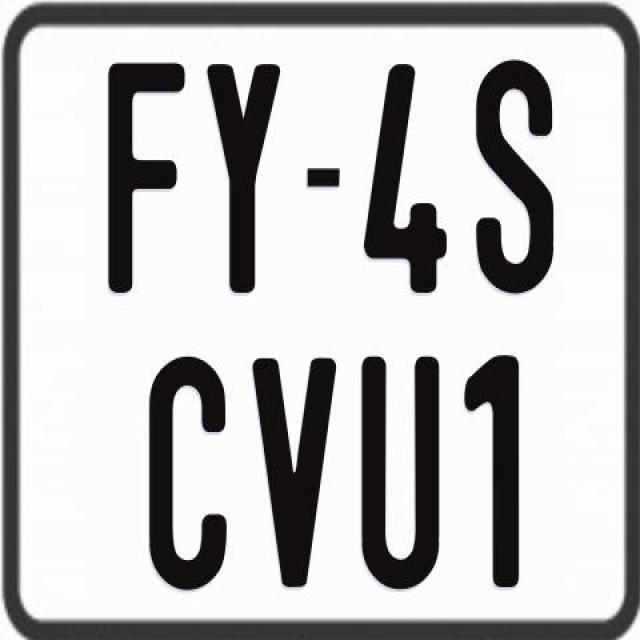1: (462, 356, 520, 594)
4: (361, 59, 451, 294)
C: (145, 352, 231, 587)
F: (104, 61, 184, 296)
S: (474, 58, 560, 294)
U: (358, 356, 442, 598)
V: (250, 353, 334, 588)
Y: (202, 61, 278, 294)
